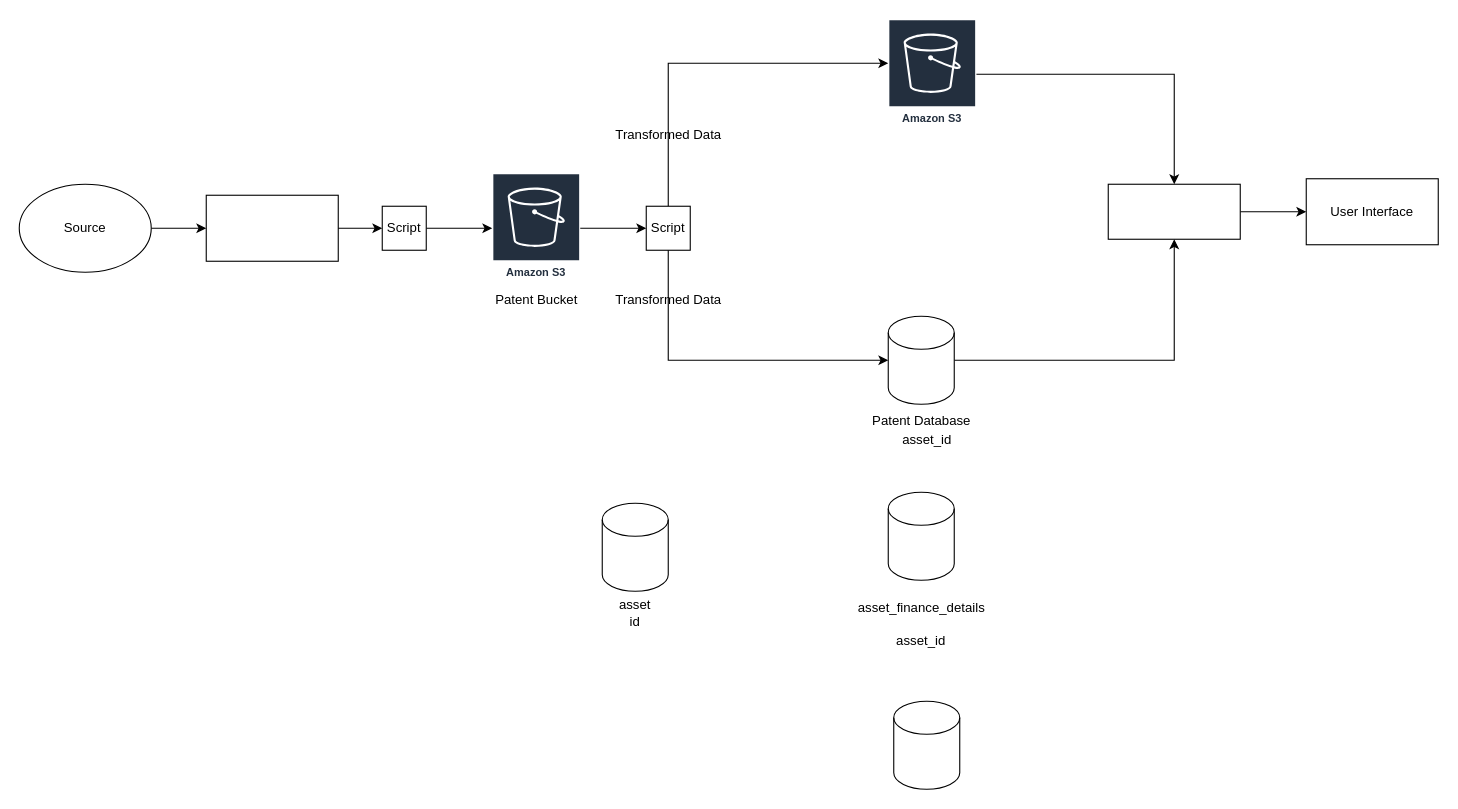
Image size: 1458x809. Some labels were removed from this diagram. The centre of each missing label's shape, as x and y in pixels:
API: pixel 1173 211
Patent Data: pixel 271 227
